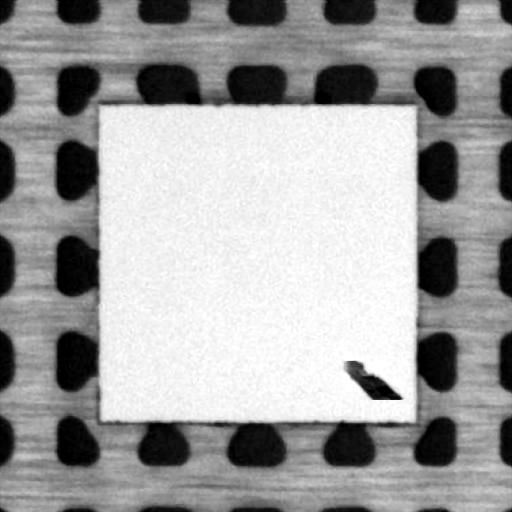DIE_INK: (340, 357, 401, 400)
